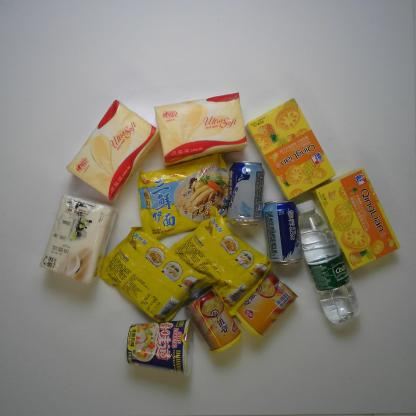Alcohol: (262, 199, 303, 266), (227, 160, 265, 228)
Canned Food: (233, 269, 298, 340), (183, 283, 242, 356)
Dessert: (308, 165, 402, 273), (245, 98, 336, 200)
Drink: (296, 197, 362, 324)
Instant Noodles: (169, 205, 273, 319), (98, 226, 216, 325), (136, 152, 235, 240), (124, 316, 195, 380)
Tissue: (65, 98, 159, 203), (39, 193, 118, 286), (154, 91, 247, 168)
